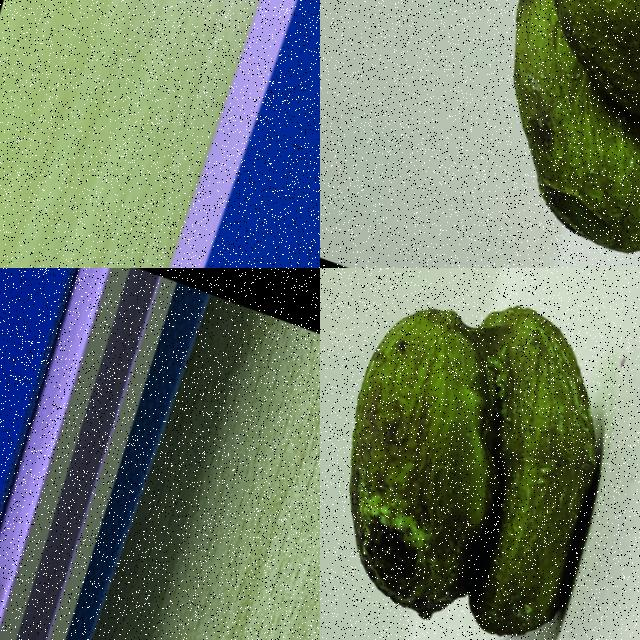Agglomerated_cocoabeans: (320, 268, 639, 639), (394, 0, 639, 267)
Flat_cocoabeans: (0, 391, 72, 639)
